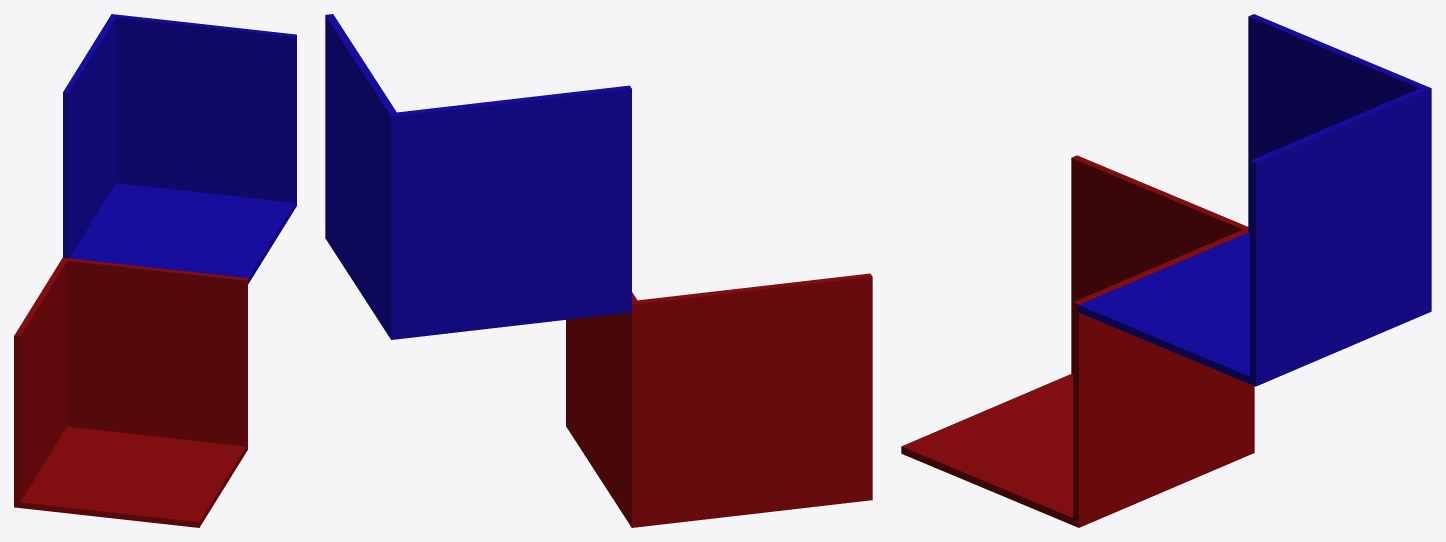
3 renders of one model, left to right at view 1: azimuth 30°, elevation 25°; view 2: azimuth 150°, elevation 25°; view 3: azimuth 270°, elevation 25°, orthographic. The views are drawn at different scales.
Visible parts, largest first — view 1: Plane, Plane.002; view 2: Plane.002, Plane; view 3: Plane.002, Plane.
Boxes of the visible parts, x1,y1,x2,y2 form: Plane: [14, 258, 247, 527]; Plane.002: [63, 14, 296, 283]; Plane.002: [325, 14, 631, 339]; Plane: [566, 273, 872, 527]; Plane.002: [1078, 14, 1431, 386]; Plane: [901, 155, 1254, 527].
Size of the model in its own units: 12.71 by 11.64 by 12.74.
